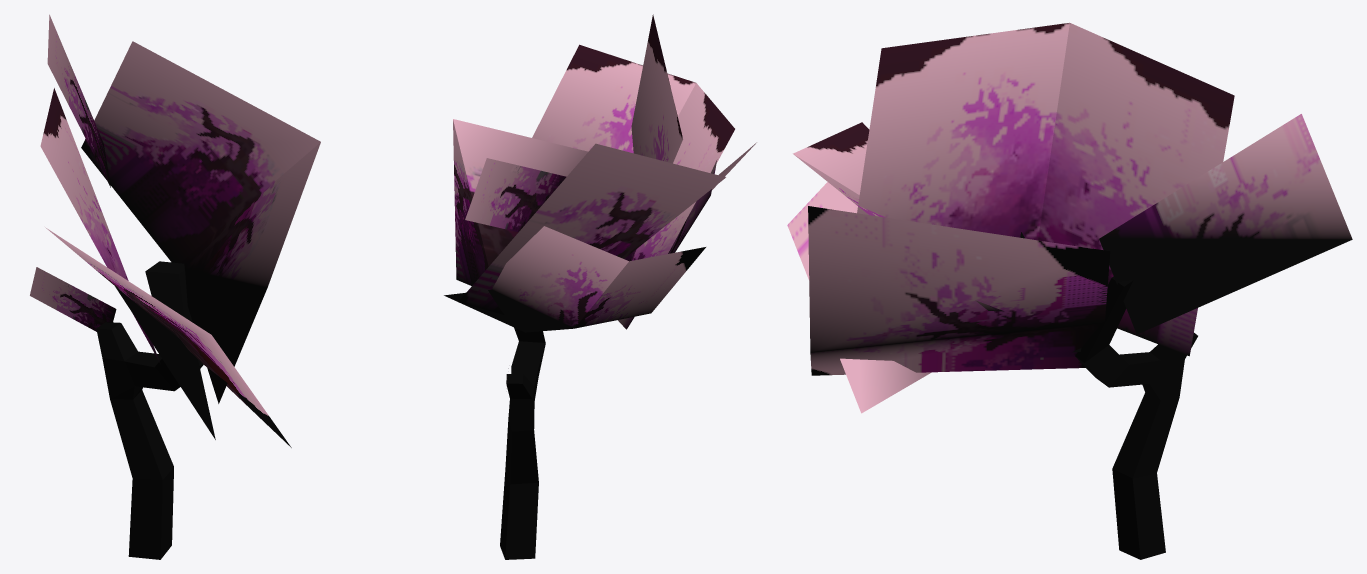
Rendered from SakuraTree1.glb.
3 views of the same model, side by side, from view 1: azimuth 30°, elevation 25°; view 2: azimuth 150°, elevation 25°; view 3: azimuth 270°, elevation 25° (orthographic). The views are drawn at different scales.
Visible parts, largest first — view 1: Sakura_Tree_1; view 2: Sakura_Tree_1; view 3: Sakura_Tree_1.
Part boxes in pixels (x1,y1,x2,y2): Sakura_Tree_1: (30, 14, 320, 559); Sakura_Tree_1: (444, 14, 756, 559); Sakura_Tree_1: (787, 22, 1352, 559).
Bounding box in the file's own units: 10.01 × 16.68 × 17.23.
1 material, 1 textured.
